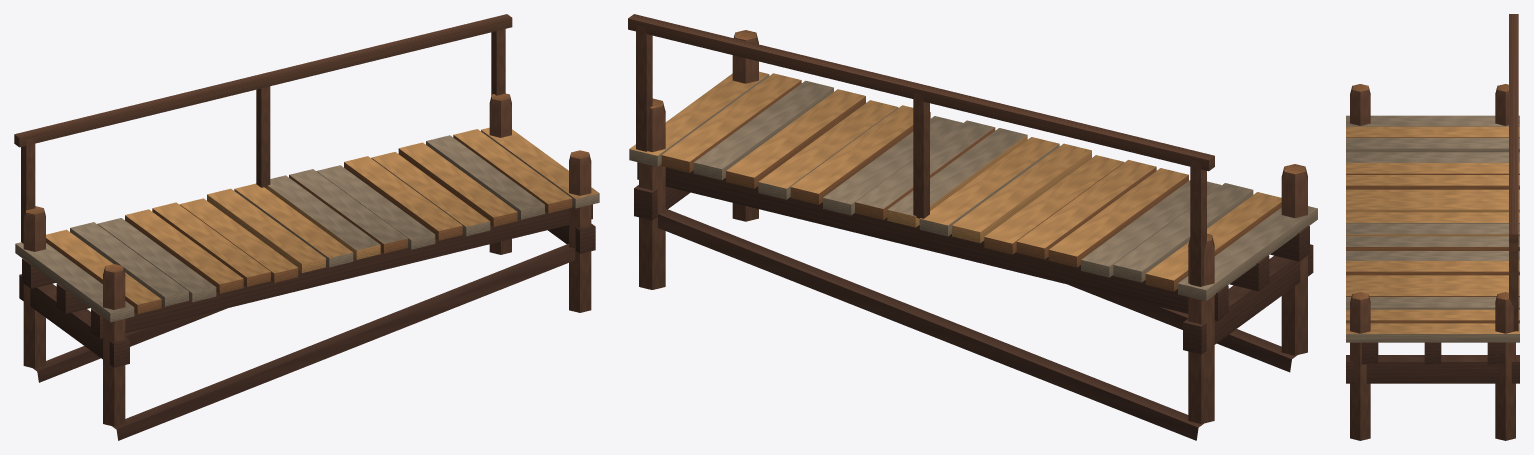
The model's file is walk_boardwalk_01.glb.
3 renders of one model, left to right at view 1: azimuth 30°, elevation 25°; view 2: azimuth 150°, elevation 25°; view 3: azimuth 270°, elevation 25°, orthographic. The views are drawn at different scales.
Visible parts, largest first — view 1: walk_boardwalk_01; view 2: walk_boardwalk_01; view 3: walk_boardwalk_01.
Part boxes in pixels (x1,y1,x2,y2): walk_boardwalk_01: (14,14,599,440); walk_boardwalk_01: (628,14,1317,440); walk_boardwalk_01: (1346,14,1519,440).
Bounding box in the file's own units: 4.39 × 2.08 × 1.46.
1 material, 1 textured.
